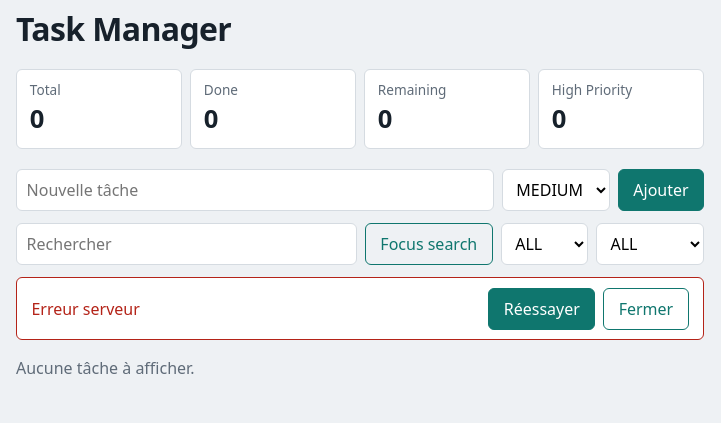
Test case: erreur API puis Retry
The image size is (721, 423).
Expected: the message shows "Erreur serveur", [31,298,140,320]
Click the button "Réessayer" at {"x": 542, "y": 309}, box [488,288,595,330]
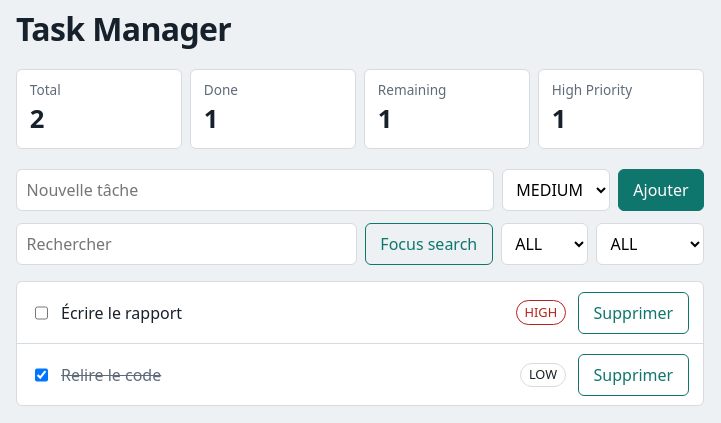
Expected: the text "Écrire le rapport" is shown, [61,301,182,325]
